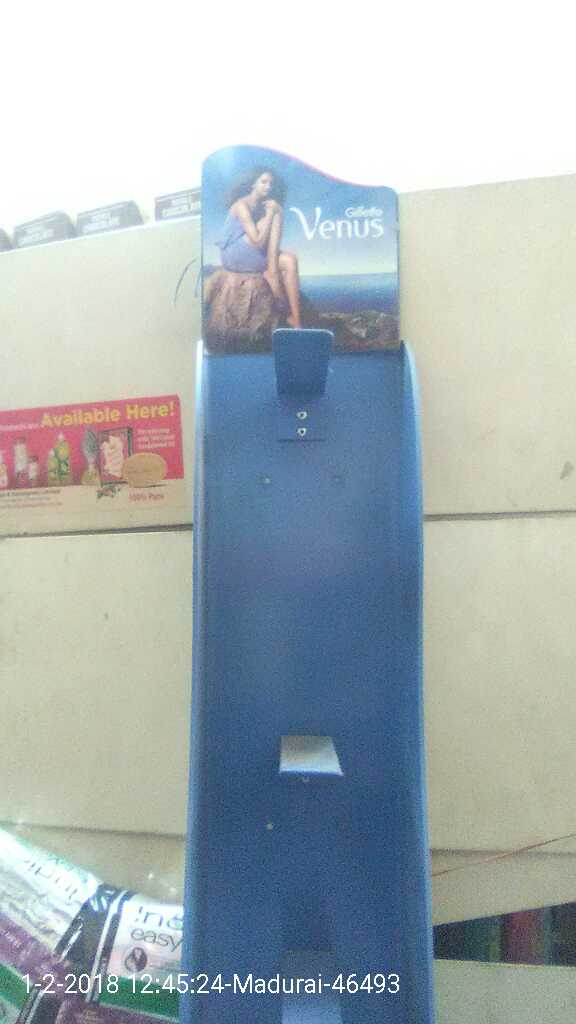reject: (247, 546, 398, 709)
